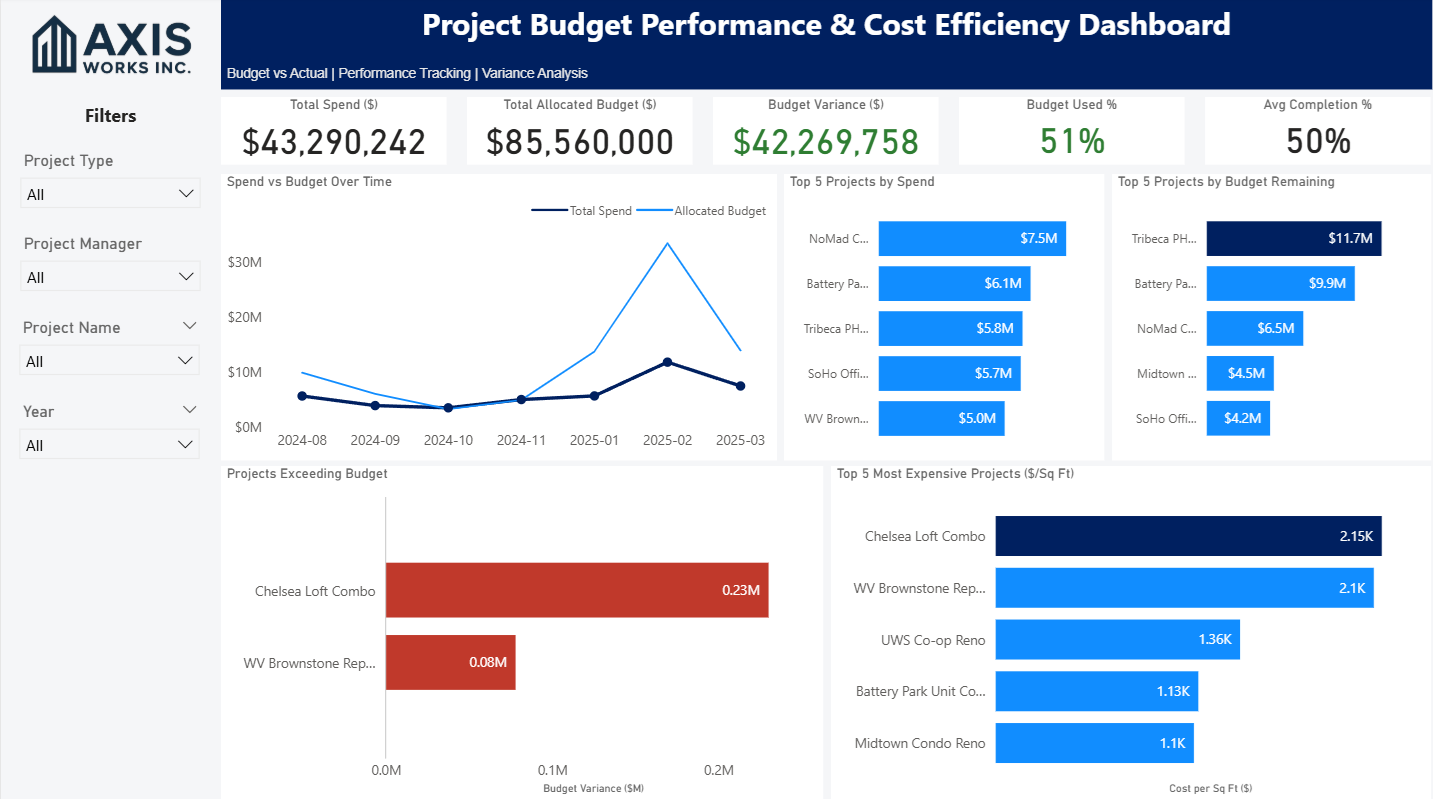

The page's visual inventory and layout, read from the dashboard file:
{"tool":"powerbi","page":{"name":"Page 1","canvas":[1280,720],"ordinal":0},"visuals":[{"type":"card","title":"Total Spend ($)","fields":{"Values":["Measures(KPI).Total Spend"]},"box":[194.8,88.9,200,60.1],"z":0},{"type":"card","title":"Total Allocated Budget ($)","fields":{"Values":["Measures(KPI).Total Allocated Budget"]},"box":[413,88.9,200,60.1],"z":1000},{"type":"card","title":"Budget Variance ($)","fields":{"Values":["Measures(KPI).Budget Variance"]},"box":[631.1,88.9,200,60.1],"z":2000},{"type":"card","title":"Avg Completion %","fields":{"Values":["Measures(KPI).Avg Completion %"]},"box":[1067.4,88.9,200,60.1],"z":3000},{"type":"lineChart","title":"Spend vs Budget Over Time","fields":{"Category":["DateTable.Year-Month"],"Y":["Measures(KPI).Total Spend","Measures(KPI).Total Allocated Budget"]},"box":[194.8,156.8,492.6,254.3],"z":4000},{"type":"barChart","title":"Top 5 Projects by Spend","fields":{"Category":["Dim_Project.Project Name"],"Y":["Measures(KPI).Total Spend"]},"box":[694.4,156.8,284,254.3],"z":5000},{"type":"barChart","title":"Top 5 Projects by Budget Remaining","fields":{"Category":["Dim_Project.Project Name"],"Y":["Measures(KPI).Budget Variance"]},"box":[985.2,156.8,283,254],"z":6000},{"type":"slicer","title":"Project Manager","fields":{"Values":["Dim_Project.Project Manager"]},"box":[6.8,206.1,179.9,70.4],"z":7000},{"type":"slicer","title":"Year","fields":{"Values":["DateTable.Year"]},"box":[6.5,354.5,179.9,70.4],"z":8000},{"type":"slicer","title":"Project Type","fields":{"Values":["Dim_Project.Project Type"]},"box":[7.1,131.8,179.9,70.4],"z":9000},{"type":"textbox","box":[194.8,0,1073.7,81.5],"z":10000},{"type":"image","box":[6.3,0,179.6,81.5],"z":11000},{"type":"card","title":"Budget Used %","fields":{"Values":["Measures(KPI).Budget Used %"]},"box":[849.3,88.9,200,60.1],"z":12000},{"type":"textbox","box":[2.7,89.1,188.8,36.5],"z":13000},{"type":"slicer","title":"Year","fields":{"Values":["Dim_Project.Project Name"]},"box":[6.2,280.3,179.9,70.4],"z":14000},{"type":"barChart","title":"Projects Exceeding Budget","fields":{"Category":["Dim_Project.Project Name"],"Y":["Measures(KPI).Budget Variance"]},"box":[194.6,416.3,533.6,295.9],"z":15000},{"type":"clusteredBarChart","title":"Top 5 Most Expensive Projects ($/Sq Ft)","fields":{"Category":["Dim_Project.Project Name"],"Y":["Measures(KPI).Cost per Sq Ft ($)"]},"box":[736,416,532,296],"z":16000}]}

Visuals, with their boxes in screenshot pixels (x1, y1, x2, y2), scaled from the page's 1280x720 canvas onto the 1433x799 screenshot:
"Total Spend ($)" card: [x1=218, y1=99, x2=442, y2=165]
"Total Allocated Budget ($)" card: [x1=462, y1=99, x2=686, y2=165]
"Budget Variance ($)" card: [x1=707, y1=99, x2=930, y2=165]
"Avg Completion %" card: [x1=1195, y1=99, x2=1419, y2=165]
"Spend vs Budget Over Time" lineChart: [x1=218, y1=174, x2=770, y2=456]
"Top 5 Projects by Spend" barChart: [x1=777, y1=174, x2=1095, y2=456]
"Top 5 Projects by Budget Remaining" barChart: [x1=1103, y1=174, x2=1420, y2=456]
"Project Manager" slicer: [x1=8, y1=229, x2=209, y2=307]
"Year" slicer: [x1=7, y1=393, x2=209, y2=472]
"Project Type" slicer: [x1=8, y1=146, x2=209, y2=224]
textbox: [x1=218, y1=0, x2=1420, y2=90]
image: [x1=7, y1=0, x2=208, y2=90]
"Budget Used %" card: [x1=951, y1=99, x2=1175, y2=165]
textbox: [x1=3, y1=99, x2=214, y2=139]
"Year" slicer: [x1=7, y1=311, x2=208, y2=389]
"Projects Exceeding Budget" barChart: [x1=218, y1=462, x2=815, y2=790]
"Top 5 Most Expensive Projects ($/Sq Ft)" clusteredBarChart: [x1=824, y1=462, x2=1420, y2=790]
